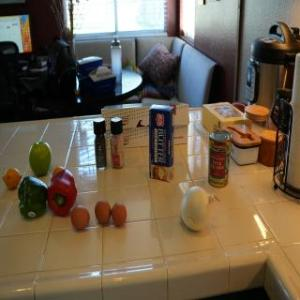bell_pepper: (20, 176, 48, 220), (49, 169, 76, 213)
egg: (70, 206, 90, 230), (95, 199, 110, 227), (112, 200, 126, 228)
onion: (181, 186, 215, 232)
